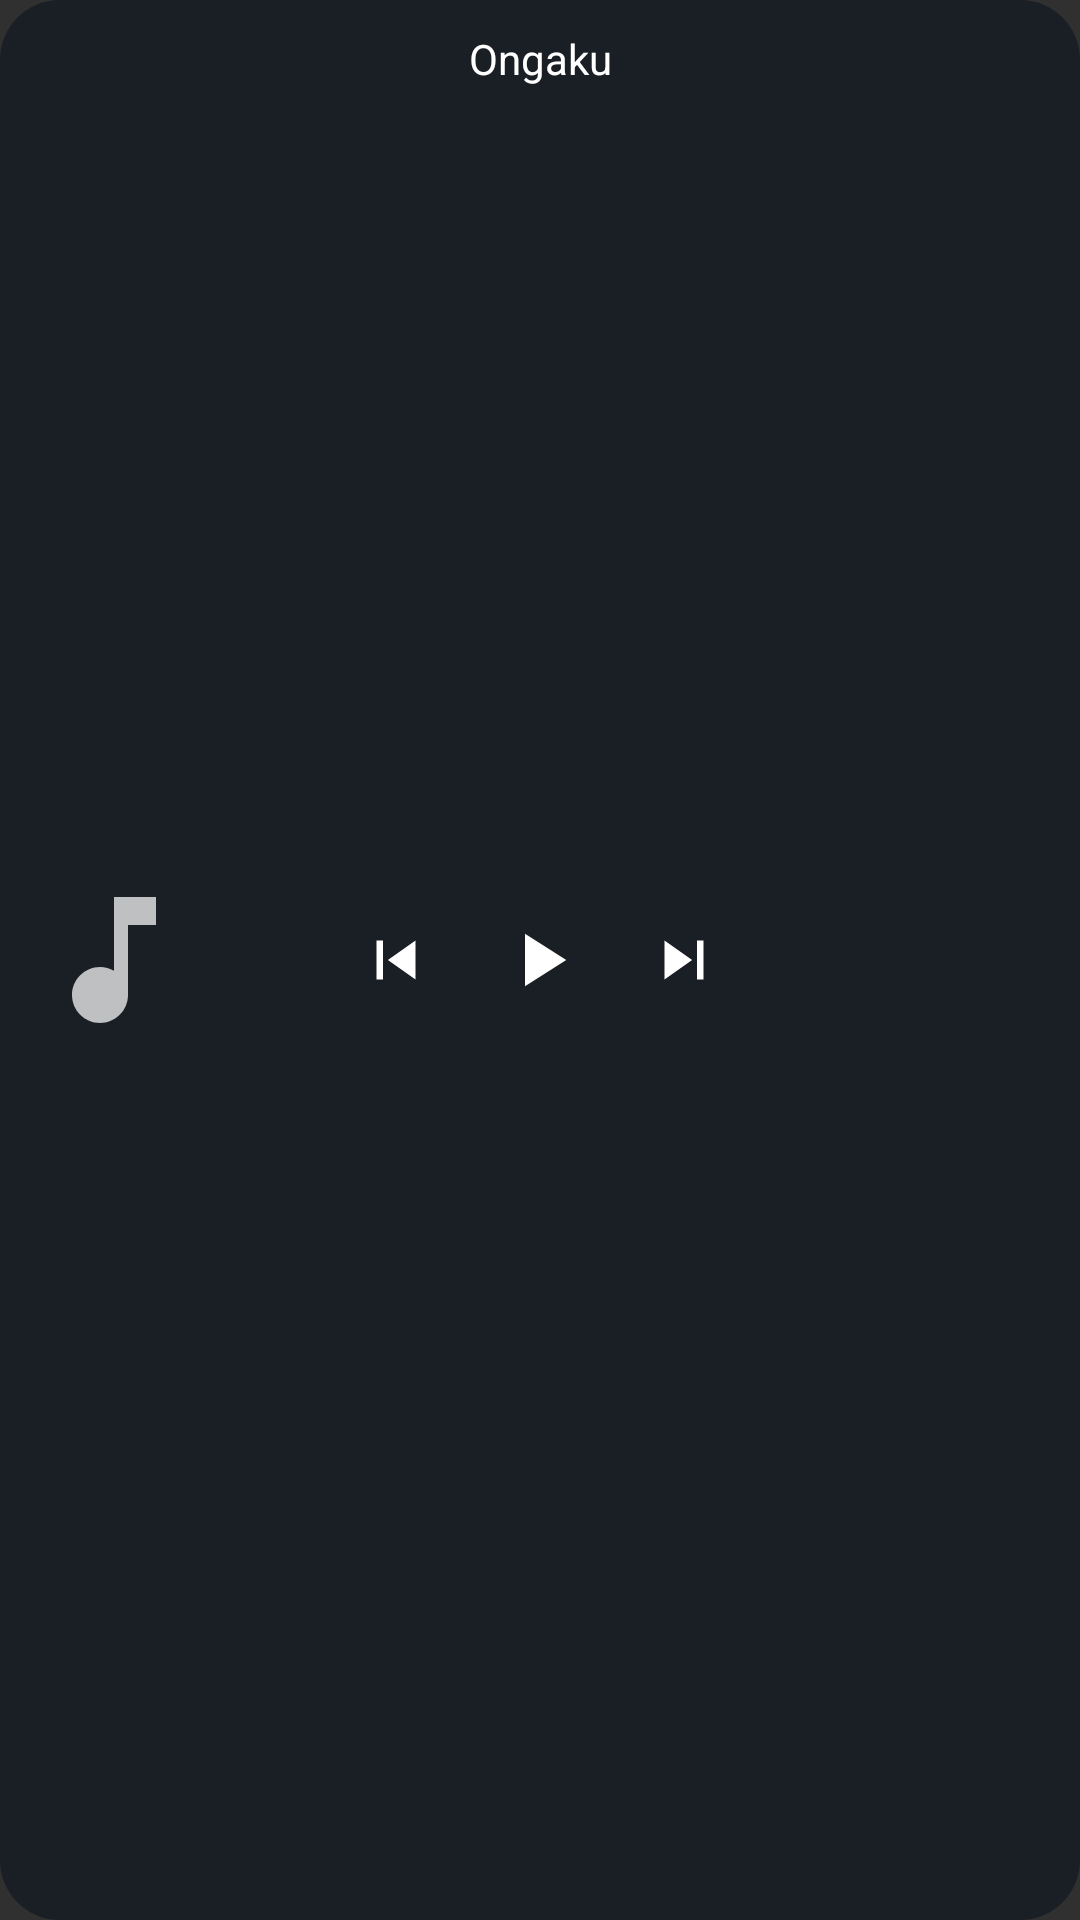

Screen size 1080px×1920px. Icon name, then its center in pixels as [x,y]:
Lecture ou pause: [545,960]
Précédent: [396,960]
Suivant: [684,960]
widget note: [114,960]
